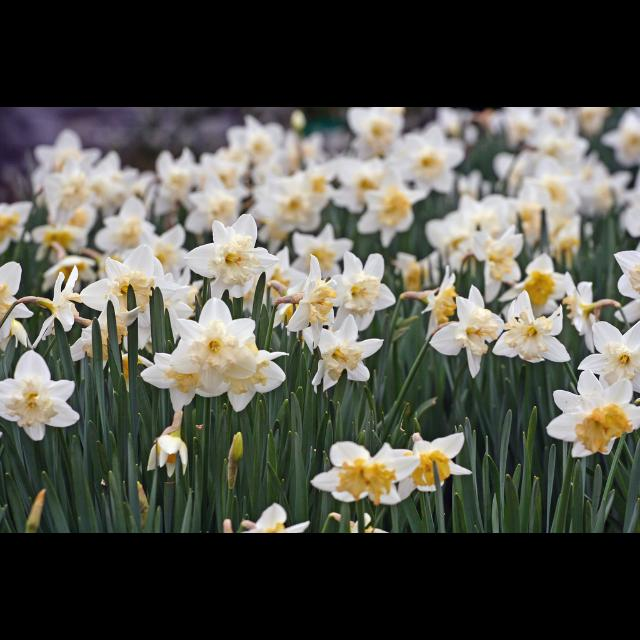Flower: (1, 107, 640, 533), (6, 354, 78, 444)
